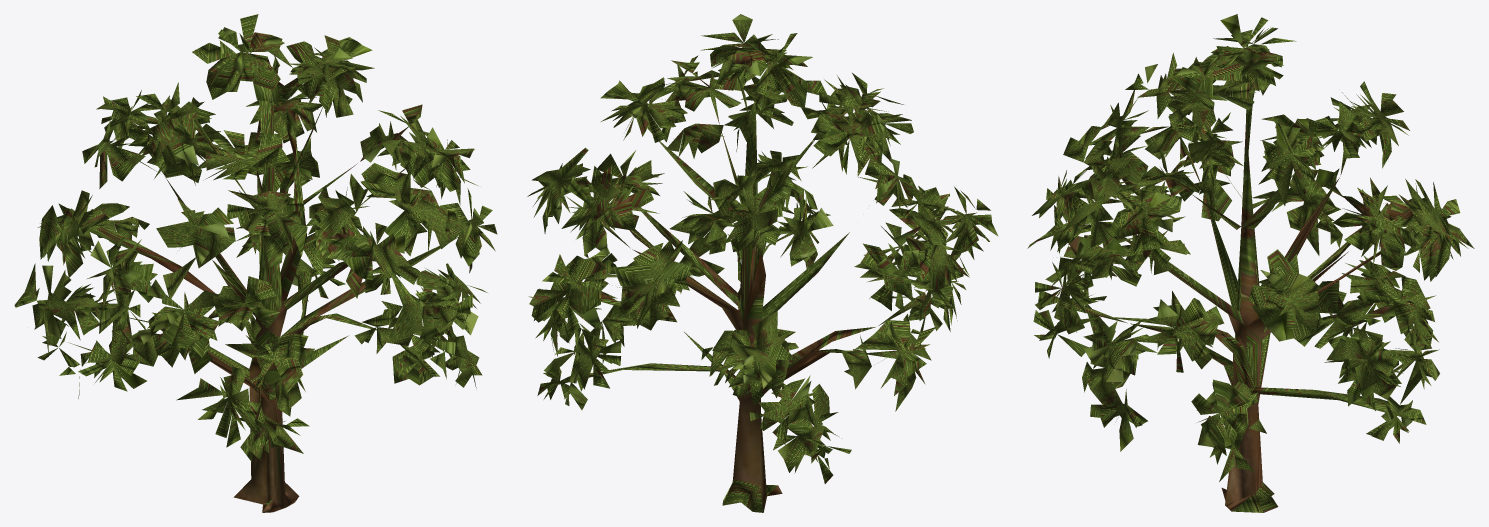
The model's file is tree-broadleaf.glb.
The picture shows the model from 3 angles, left to right: view 1: azimuth 30°, elevation 25°; view 2: azimuth 150°, elevation 25°; view 3: azimuth 270°, elevation 25°; orthographic projection. The views are drawn at different scales.
Parts seen in each view (by area): view 1: tripo_node_ca617849-c58d-4739-9573-d6f0d2d36bc6; view 2: tripo_node_ca617849-c58d-4739-9573-d6f0d2d36bc6; view 3: tripo_node_ca617849-c58d-4739-9573-d6f0d2d36bc6.
Part boxes in pixels (box(x1,y1,x2,y2)): tripo_node_ca617849-c58d-4739-9573-d6f0d2d36bc6: box(14, 14, 497, 512); tripo_node_ca617849-c58d-4739-9573-d6f0d2d36bc6: box(527, 14, 998, 512); tripo_node_ca617849-c58d-4739-9573-d6f0d2d36bc6: box(1027, 14, 1474, 512).
Bounding box in the file's own units: 0.8992 × 0.9751 × 0.8355.
Materials: 1 (1 with a texture image).
